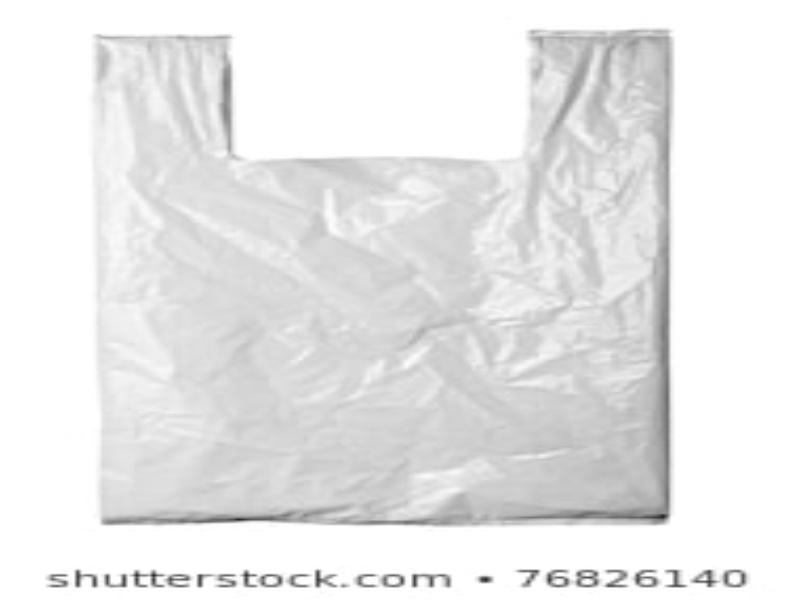plastic-bag: (86, 27, 690, 529)
